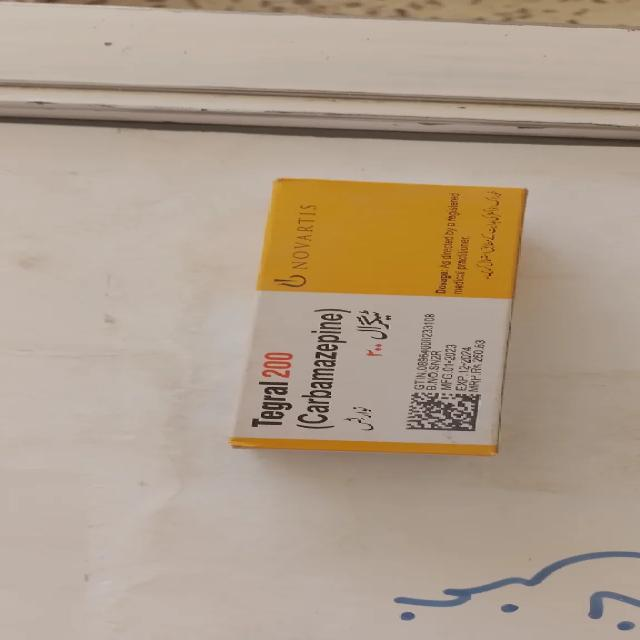drug-name: (246, 350, 298, 431)
